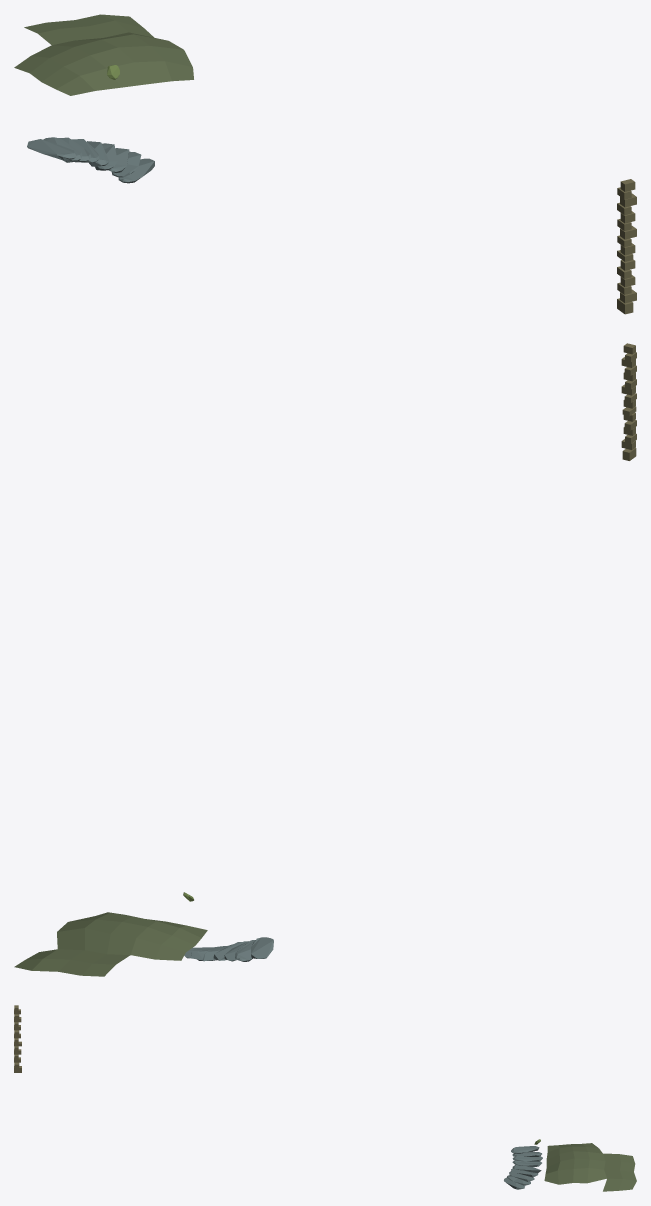
3 views of the same model, one above another, from view 1: azimuth 30°, elevation 25°; view 2: azimuth 150°, elevation 25°; view 3: azimuth 270°, elevation 25° (orthographic). The views are drawn at different scales.
Visible parts, largest first — view 1: Plane071_green_dead_0, Box798_rock_0, Box15770_rock2_0; view 2: Plane071_green_dead_0, Box15770_rock2_0, Box798_rock_0; view 3: Plane071_green_dead_0, Box798_rock_0, Box15770_rock2_0.
Boxes of the visible parts, x1,y1,x2,y2 form: Plane071_green_dead_0: [14, 14, 193, 95]; Box798_rock_0: [27, 137, 154, 183]; Box15770_rock2_0: [617, 179, 636, 314]; Plane071_green_dead_0: [14, 912, 207, 976]; Box15770_rock2_0: [621, 343, 636, 460]; Box798_rock_0: [184, 937, 273, 961]; Plane071_green_dead_0: [544, 1143, 636, 1191]; Box798_rock_0: [504, 1146, 542, 1189]; Box15770_rock2_0: [14, 1005, 21, 1072].
Size of the model in its own units: 1096 by 1843 by 5838.
